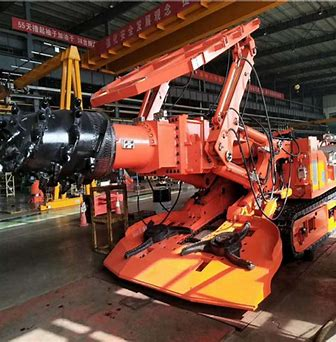person: (2, 15, 334, 310)
